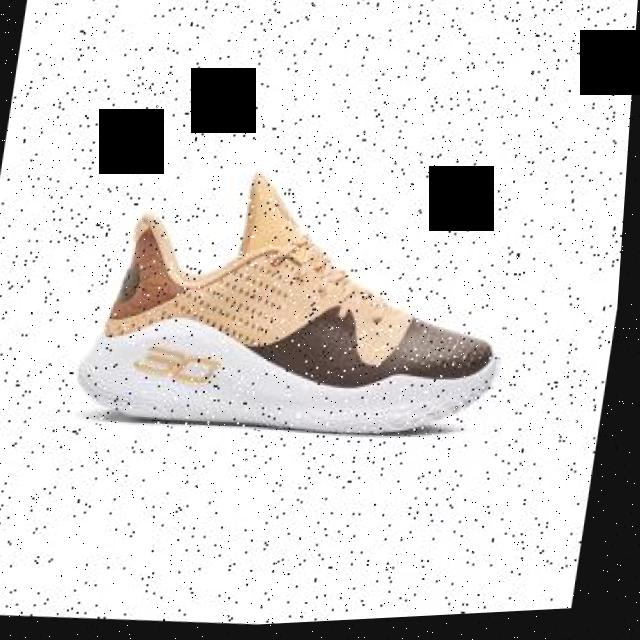shoe: (74, 149, 535, 461)
